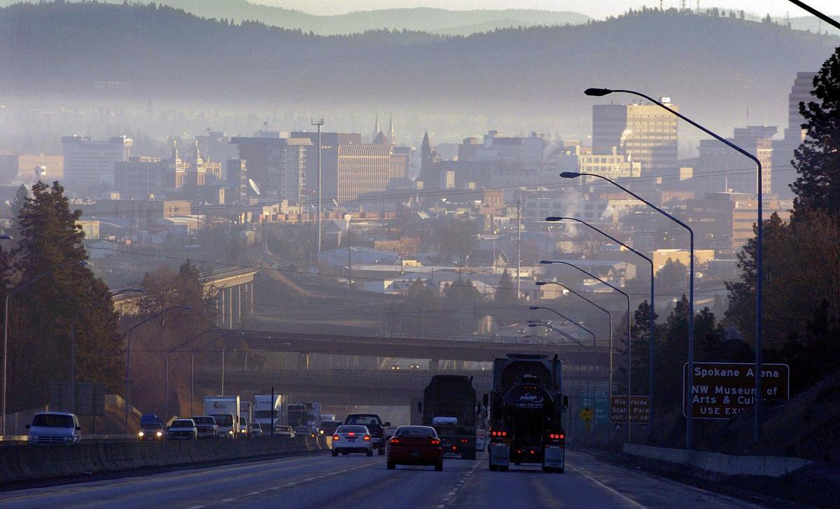bus: (482, 351, 569, 473), (417, 373, 483, 460), (204, 394, 241, 443), (252, 394, 286, 437), (224, 399, 253, 438), (300, 401, 322, 432), (285, 402, 307, 431)
car: (385, 424, 446, 472), (25, 412, 82, 451), (343, 413, 391, 456), (331, 423, 377, 458), (166, 417, 199, 443), (189, 415, 220, 440), (137, 420, 166, 442), (270, 424, 295, 440), (317, 419, 337, 438), (292, 425, 313, 440), (247, 421, 263, 437), (384, 425, 400, 440)
